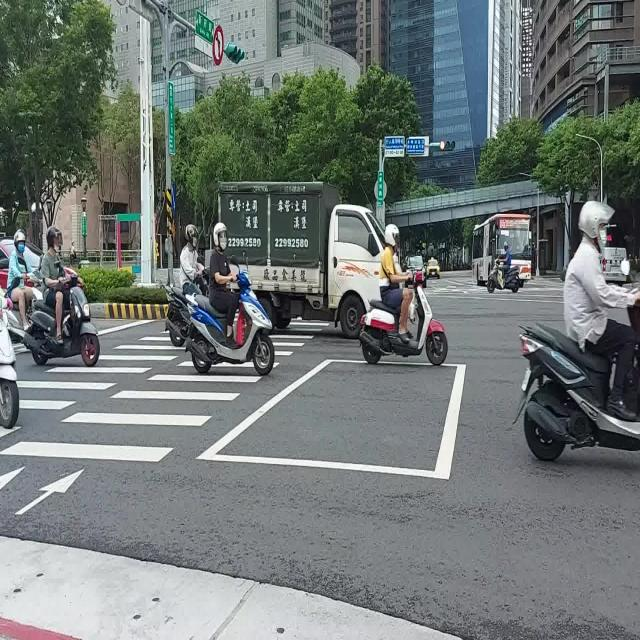bus: (472, 209, 530, 289)
car: (600, 243, 630, 284), (406, 252, 426, 288), (425, 254, 442, 282), (426, 258, 439, 279)
crosswalk: (0, 371, 261, 462), (0, 328, 185, 440), (271, 319, 331, 368)
motocycle: (514, 256, 640, 465), (182, 249, 281, 380), (358, 260, 451, 382), (17, 250, 103, 371), (0, 277, 25, 437), (491, 240, 522, 292)
trunk: (219, 182, 384, 336)
